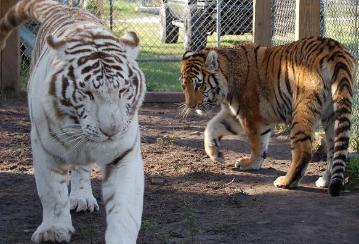Tigre: (9, 5, 150, 244), (176, 39, 359, 186)
